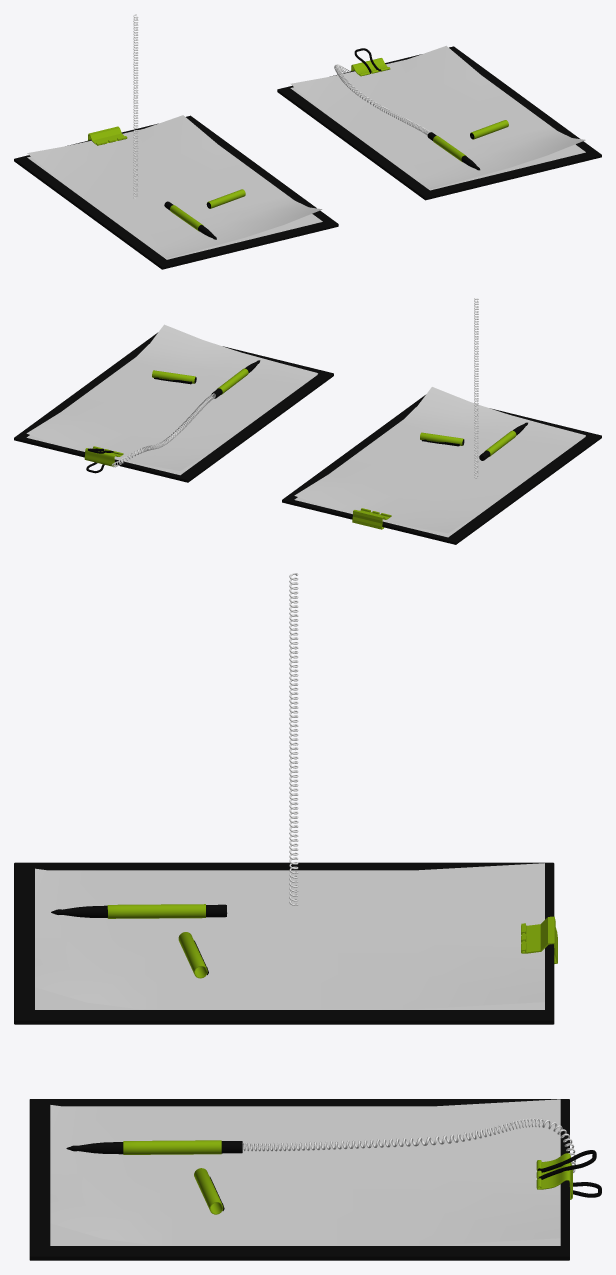
The picture shows the model from 3 angles, top to bottom: view 1: azimuth 30°, elevation 25°; view 2: azimuth 150°, elevation 25°; view 3: azimuth 270°, elevation 25°; orthographic projection. The views are drawn at different scales.
Visible parts, largest first — view 1: Collapse_Acc_Off_003, Plane03, Box01, Plane01, Helix01, Collapse_Acc_Oth_056, Plane02; view 2: Collapse_Acc_Off_003, Plane03, Box01, Collapse_Acc_Oth_056, Helix01, Plane02, Plane01; view 3: Collapse_Acc_Off_003, Plane03, Box01, Collapse_Acc_Oth_056, Helix01, Plane01, Plane02.
Part boxes in pixels (x1,y1,x2,y2): Collapse_Acc_Off_003: [277, 45, 601, 200]; Plane03: [27, 115, 322, 258]; Box01: [14, 115, 338, 269]; Plane01: [27, 156, 322, 259]; Helix01: [133, 14, 138, 198]; Collapse_Acc_Oth_056: [164, 189, 245, 239]; Plane02: [88, 126, 127, 145]; Collapse_Acc_Off_003: [14, 324, 333, 482]; Plane03: [294, 387, 585, 533]; Box01: [282, 395, 601, 544]; Collapse_Acc_Oth_056: [420, 422, 527, 460]; Helix01: [474, 298, 478, 478]; Plane02: [352, 508, 391, 529]; Plane01: [294, 436, 585, 537]; Collapse_Acc_Off_003: [29, 1099, 601, 1260]; Plane03: [35, 863, 544, 1009]; Box01: [14, 862, 554, 1024]; Collapse_Acc_Oth_056: [51, 904, 227, 978]; Helix01: [289, 573, 298, 905]; Plane01: [35, 987, 544, 1009]; Plane02: [521, 916, 557, 963].
Bounding box in the file's own units: 488 × 200 × 307.
